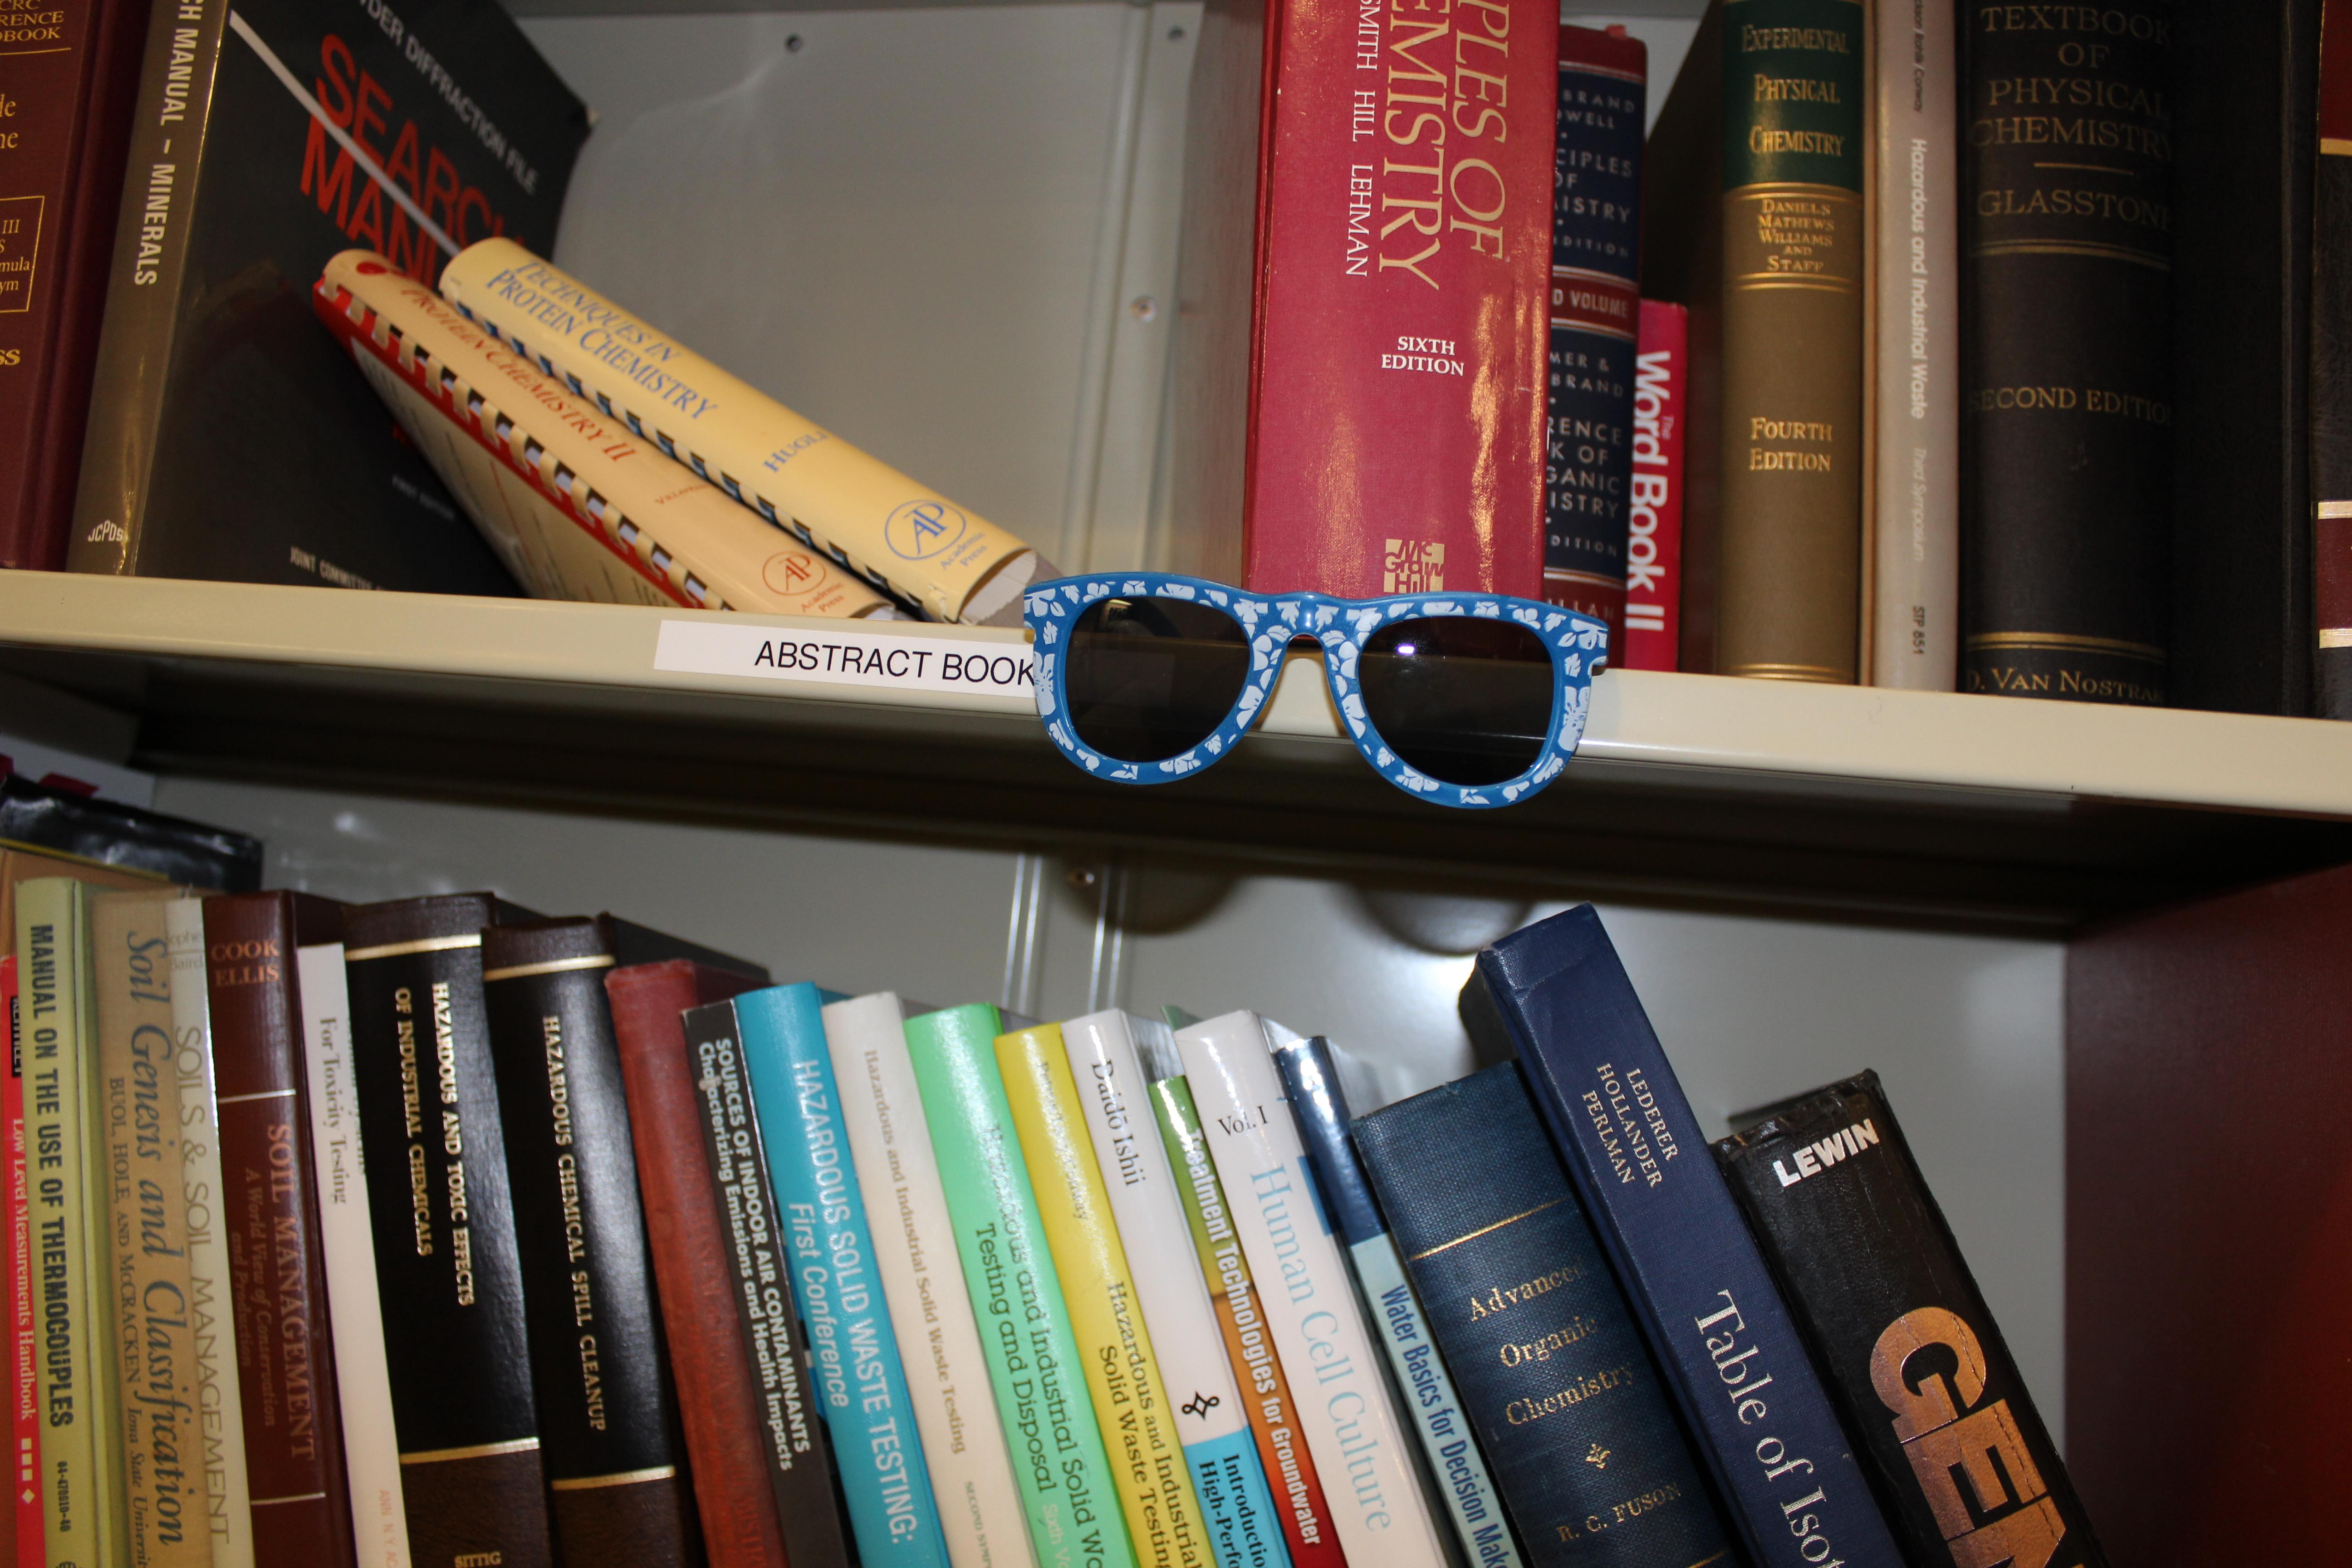blueSunglasses: (999, 549, 1649, 829)
